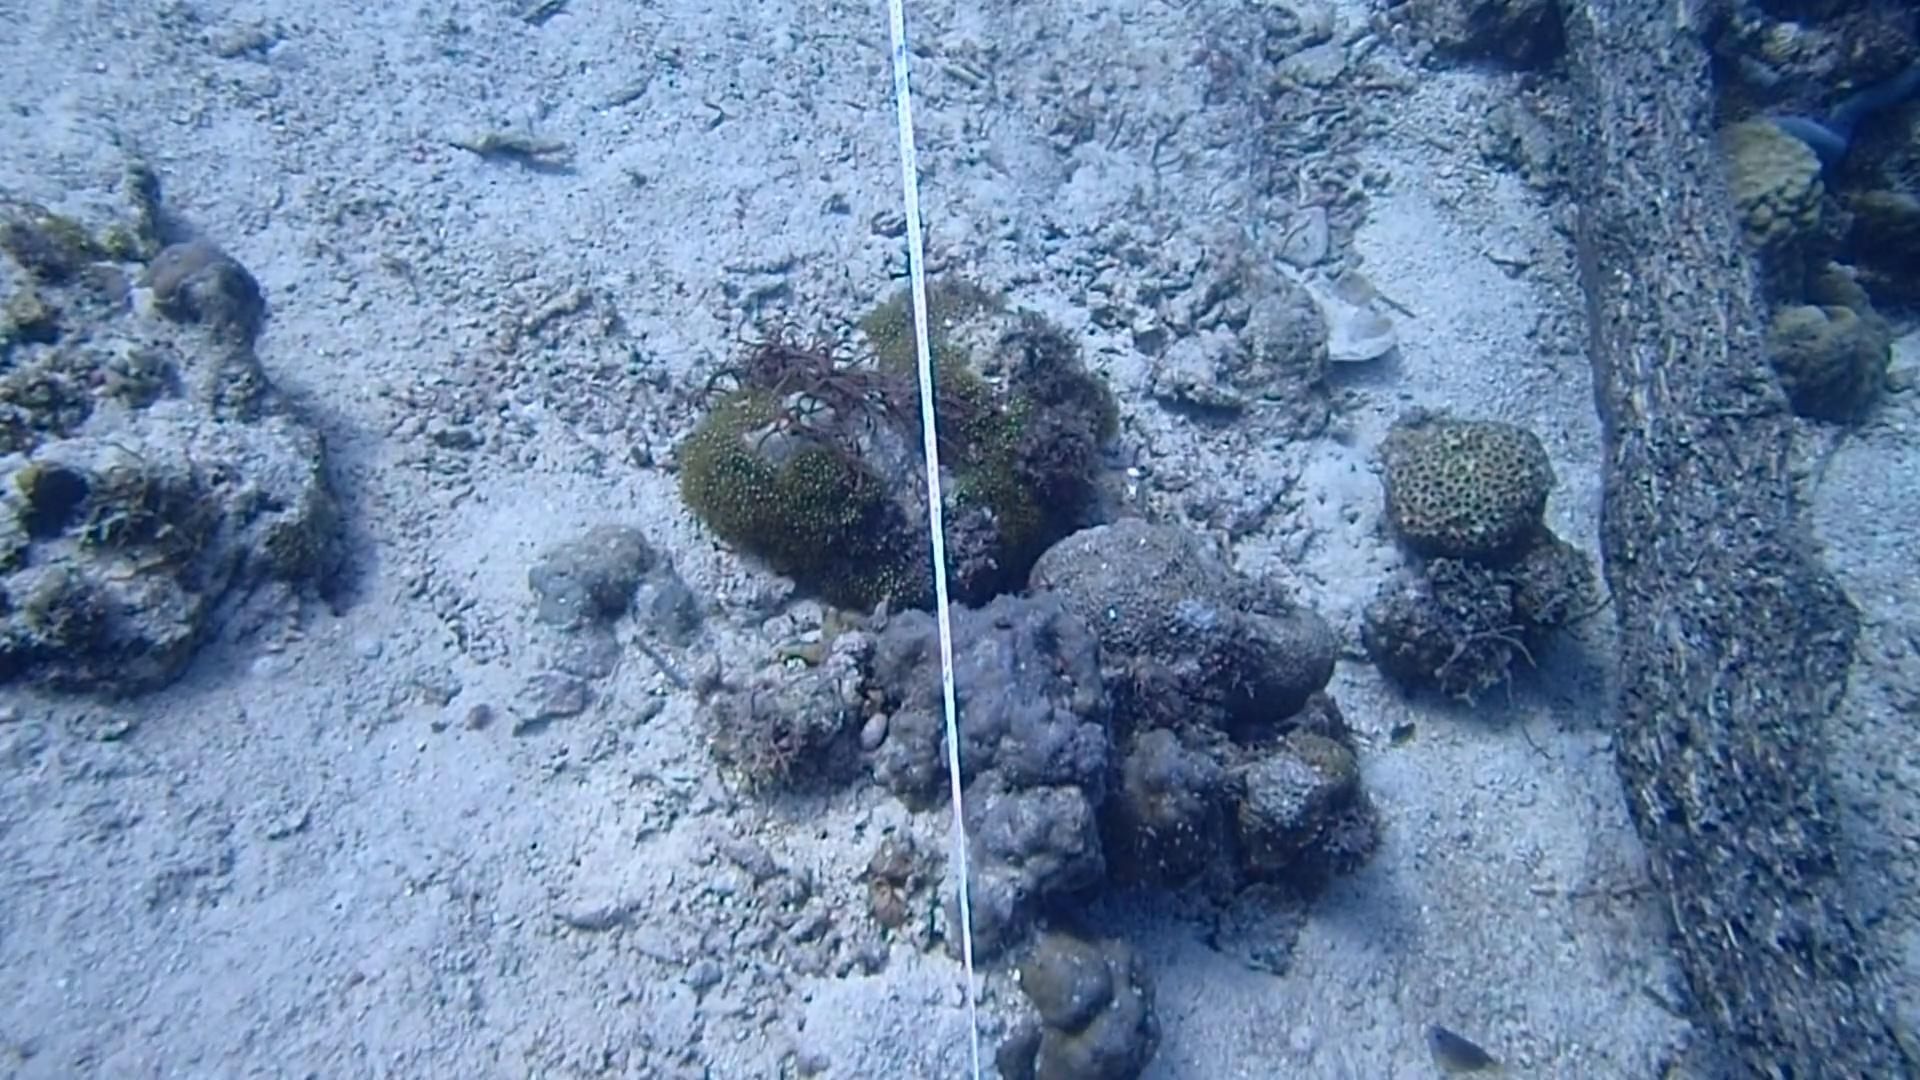Light Fish: (1412, 1011, 1506, 1080)
